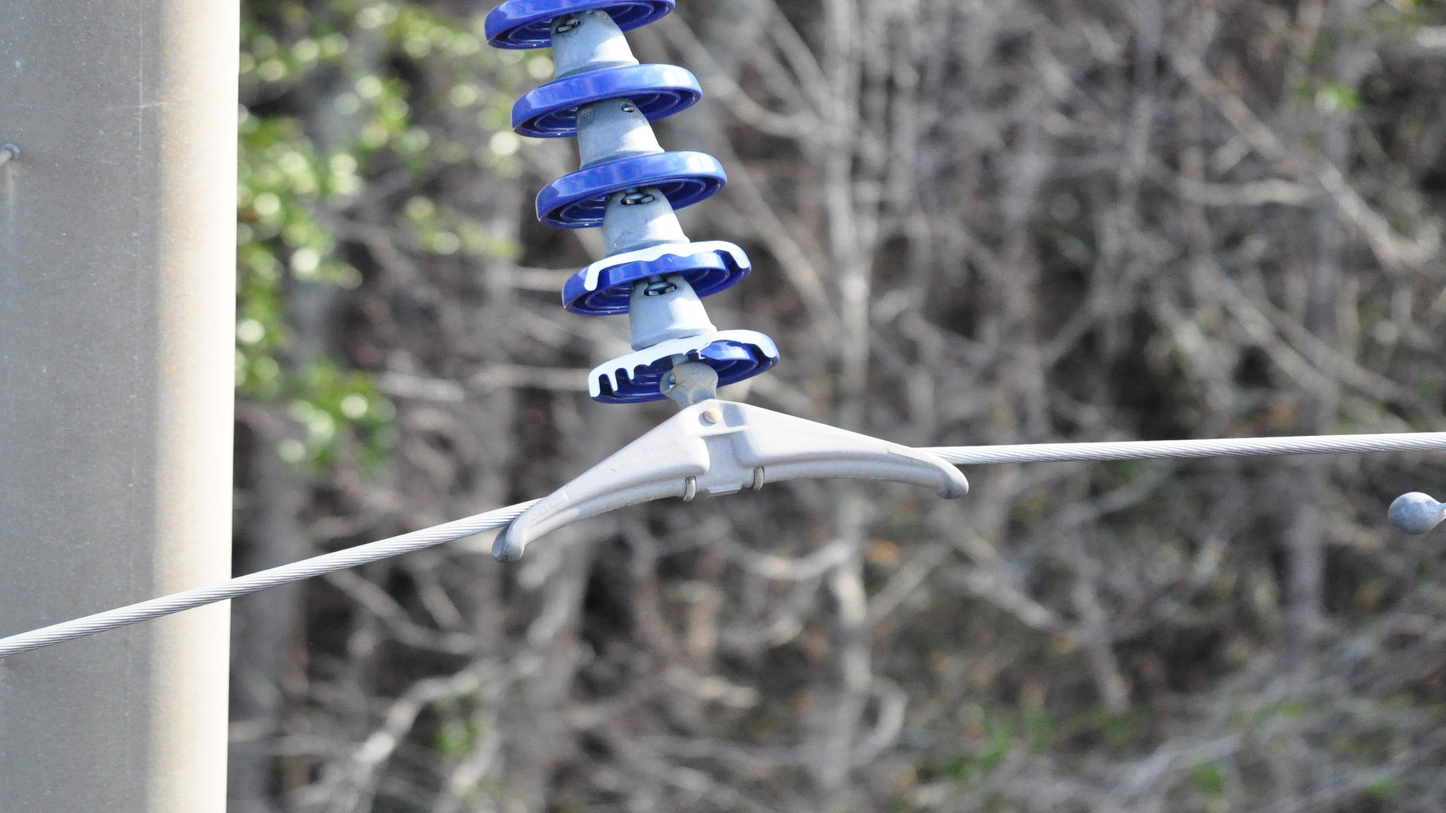insulator: (480, 1, 787, 413)
